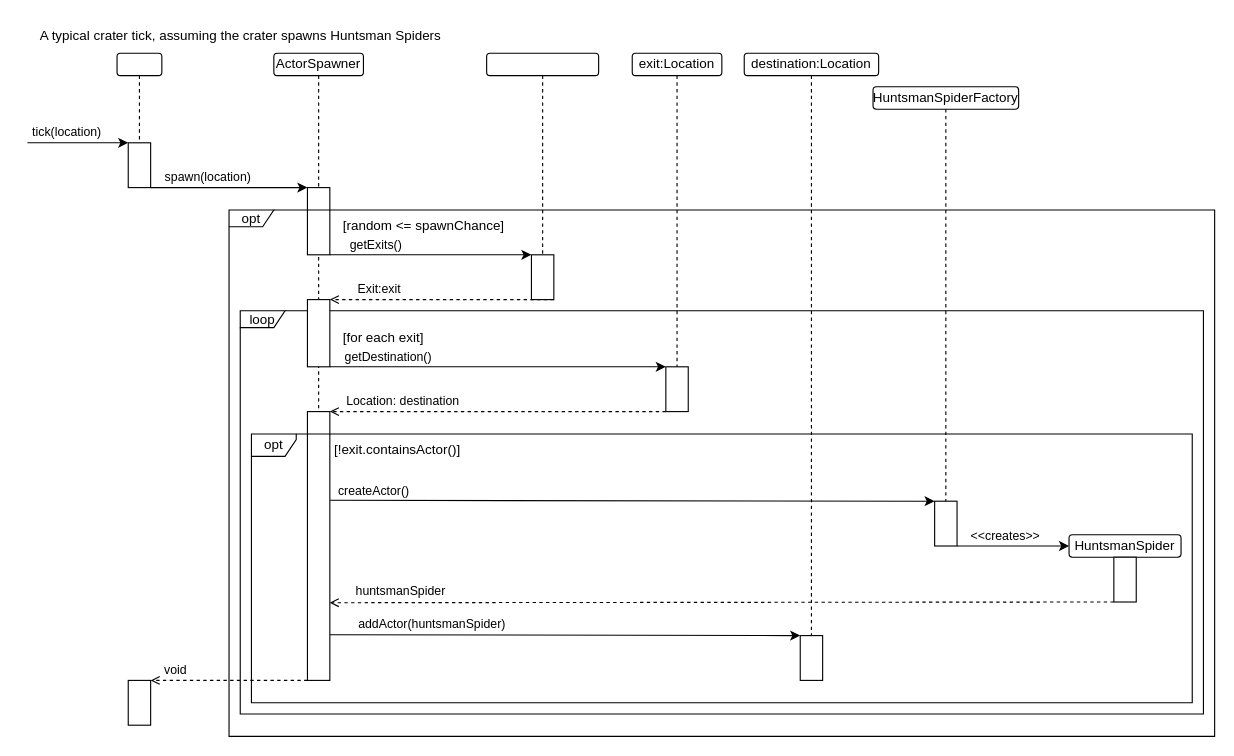
This 1234x756 diagram has some shape labels left out. Here are the shapes that lost their labels. From the top down, the centre of each, then its label:
At point 139,64: "Crater".
At point 542,64: "location:Location".
